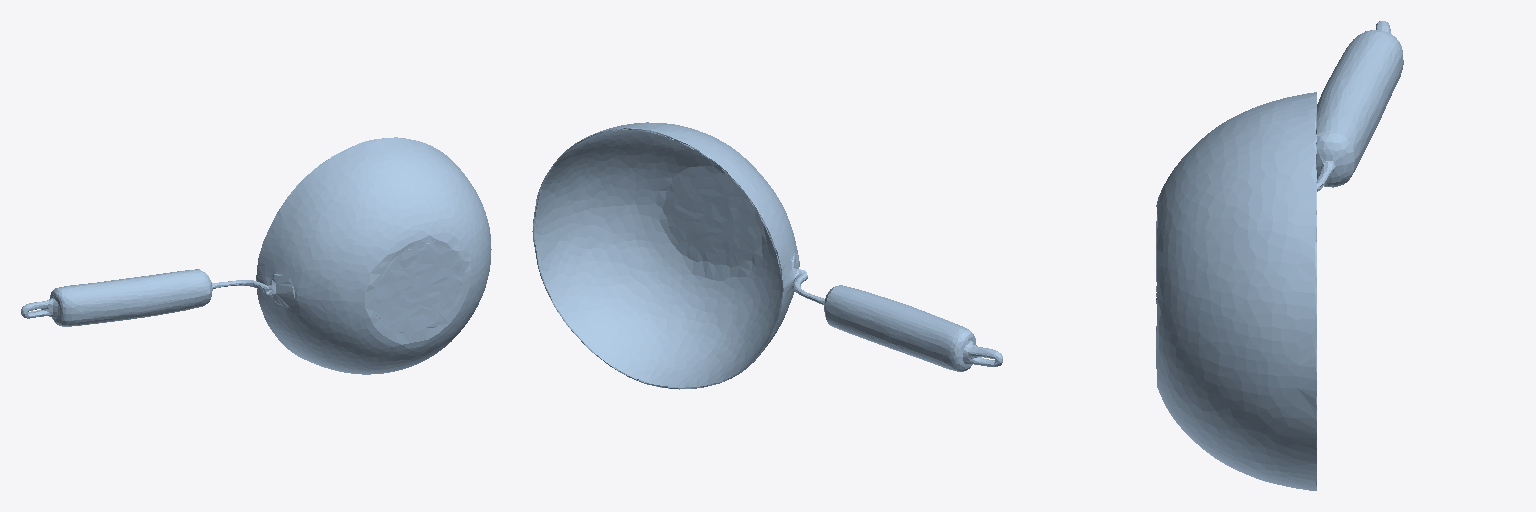
URDF robot description (Wok.urdf):
<?xml version="1.0" ?>
<robot name="Wok.urdf">
  <dynamics damping="0.5" friction="0.9"/>
  <link name="baseLink">
    <contact>
      <lateral_friction value="0.9"/>
      <rolling_friction value="0.5"/>
      <stiffness value="30000"/>
      <damping value="1000"/>
    </contact>
    <visual>
      <origin rpy="0 0 0" xyz="0 0 0"/>
      <geometry>
        <mesh filename="objects/Wok/Wok.obj" scale="1.0 1.0 1.0"/>
      </geometry>
      <material name="mat">
        <color rgba="0.7 0.8 0.9 1"/>
      </material>
    </visual>
    <collision>
      <origin rpy="0 0 0" xyz="0 0 0"/>
      <geometry>
        <mesh filename="objects/Wok/Wok.obj" scale="1.0 1.0 1.0"/>
      </geometry>
    </collision>
  </link>
</robot>

--- What the picture shows (computed from the rendered views, not written in the file) ---
The picture shows the robot from 3 angles, left to right: view 1: azimuth 30°, elevation 25°; view 2: azimuth 150°, elevation 25°; view 3: azimuth 270°, elevation 25°; orthographic projection.
Robot: Wok.urdf — 1 links, 0 joints (none); root link baseLink; default pose: every joint at zero.
Visible links, largest first — view 1: baseLink; view 2: baseLink; view 3: baseLink.
Link boxes in pixels (left/top/right/bottom): baseLink: left=21, top=137, right=491, bottom=374; baseLink: left=532, top=122, right=1002, bottom=389; baseLink: left=1156, top=21, right=1403, bottom=490.
Bounding box of the posed robot: 0.3843 × 0.1175 × 0.1897 m (x, y, z).
1 mesh visuals loaded from 1 distinct referenced files (1 OBJ).
